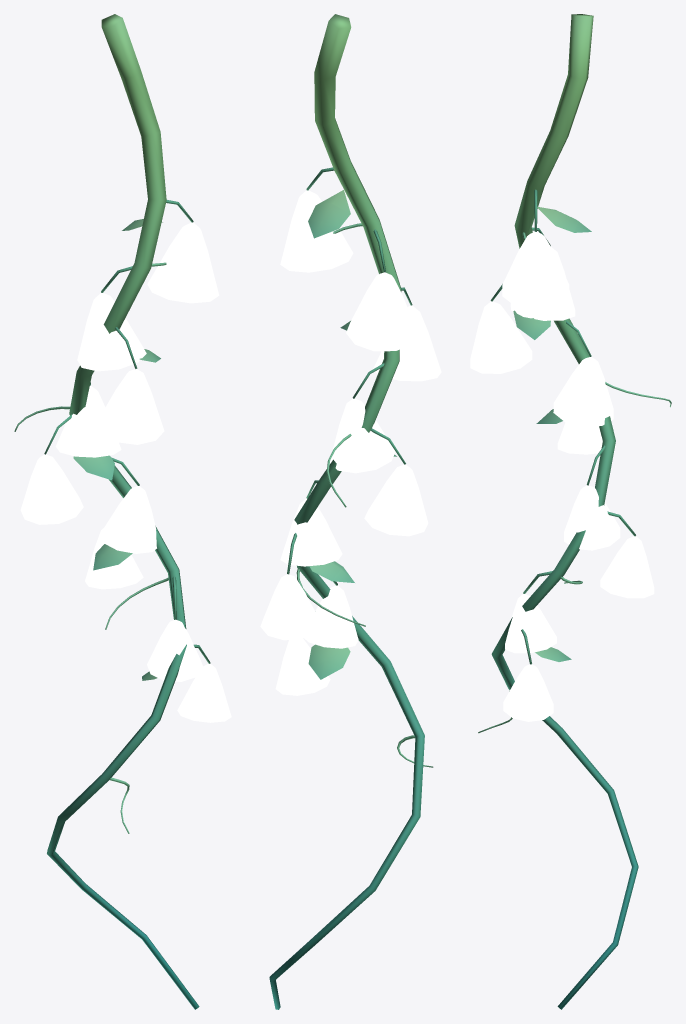
Rendered from verdant_hang_vines_glowbell.glb.
The picture shows the model from 3 angles, left to right: view 1: azimuth 30°, elevation 25°; view 2: azimuth 150°, elevation 25°; view 3: azimuth 270°, elevation 25°; orthographic projection. The views are drawn at different scales.
Visible parts, largest first — view 1: verdant_hang_vines_glowbell; view 2: verdant_hang_vines_glowbell; view 3: verdant_hang_vines_glowbell.
Boxes of the visible parts, x1=… form: verdant_hang_vines_glowbell: x1=14, y1=14, x2=231, y2=1009; verdant_hang_vines_glowbell: x1=260, y1=14, x2=441, y2=1009; verdant_hang_vines_glowbell: x1=470, y1=14, x2=671, y2=1009.
Bounding box in the file's own units: 0.8179 × 4.52 × 0.8582.
